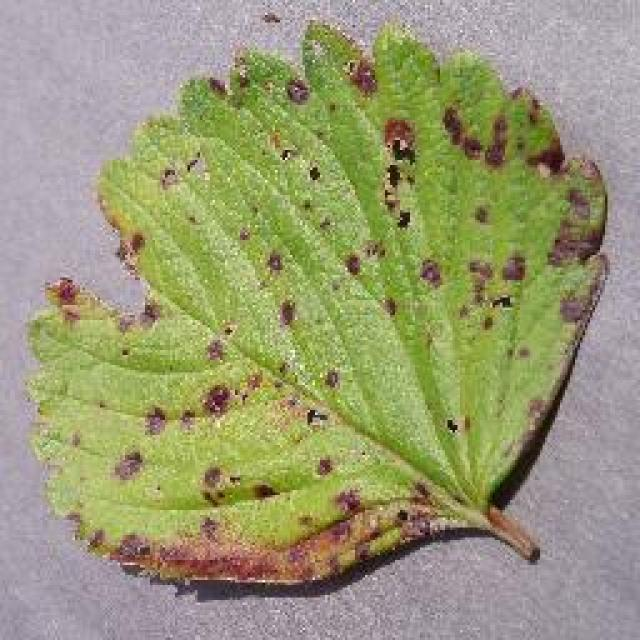Strawberry leaf scorch: (98, 98, 522, 585)
